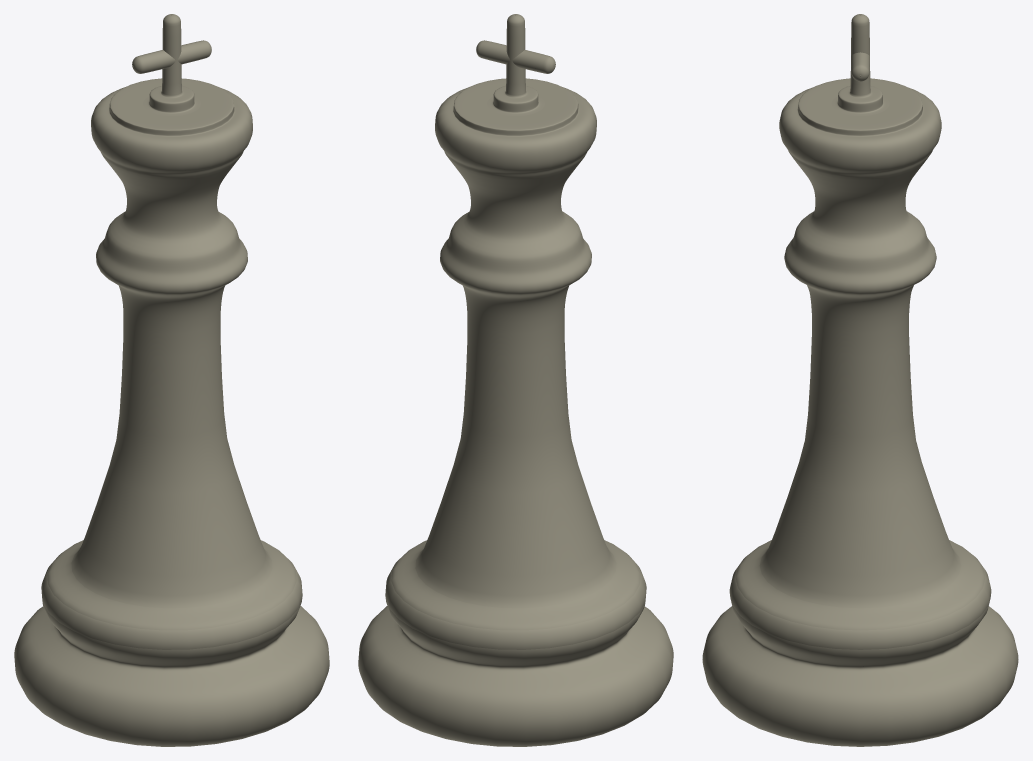
3 views of the same model, side by side, from view 1: azimuth 30°, elevation 25°; view 2: azimuth 150°, elevation 25°; view 3: azimuth 270°, elevation 25° (orthographic).
Visible parts, largest first — view 1: White chess side.001_6; view 2: White chess side.001_6; view 3: White chess side.001_6.
Part boxes in pixels (box(x1,y1,x2,y2)): White chess side.001_6: box(14, 14, 329, 746); White chess side.001_6: box(358, 14, 673, 746); White chess side.001_6: box(702, 14, 1018, 746).
Size of the model in its own units: 1.35 by 3.2 by 1.35.
